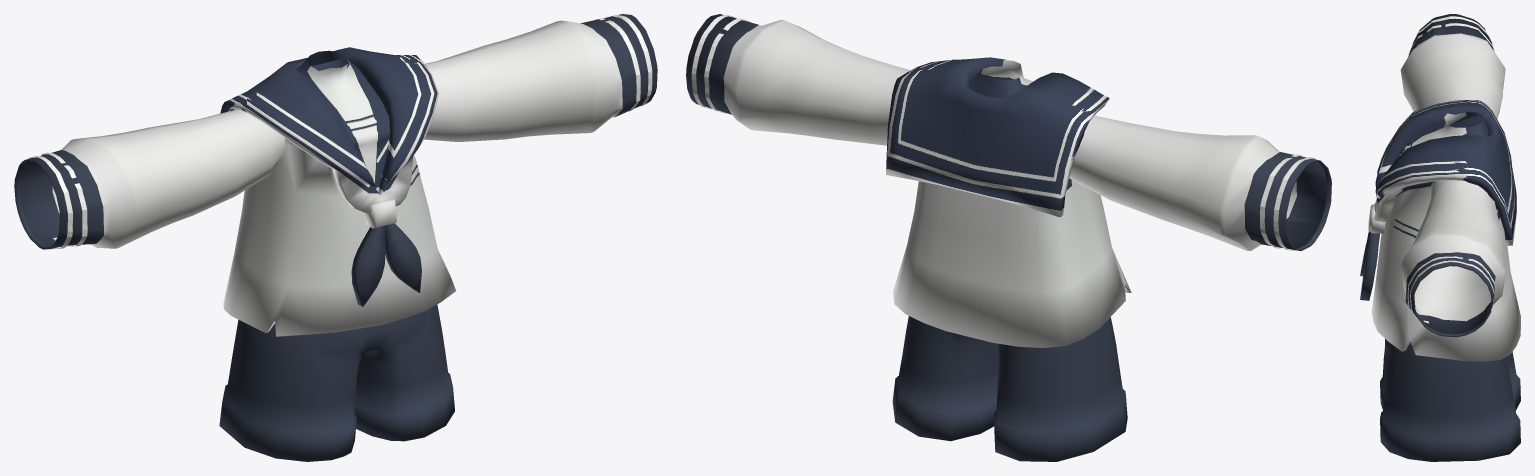
Rendered from sailor-school-outfit.glb.
The picture shows the model from 3 angles, left to right: view 1: azimuth 30°, elevation 25°; view 2: azimuth 150°, elevation 25°; view 3: azimuth 270°, elevation 25°; orthographic projection. The views are drawn at different scales.
Visible parts, largest first — view 1: Sailor_top, Sailor_pants; view 2: Sailor_top, Sailor_pants; view 3: Sailor_top, Sailor_pants.
Part boxes in pixels (x1,y1,x2,y2): Sailor_top: (14, 14, 657, 336); Sailor_pants: (219, 304, 454, 461); Sailor_top: (686, 14, 1331, 348); Sailor_pants: (892, 316, 1127, 461); Sailor_top: (1360, 14, 1520, 361); Sailor_pants: (1380, 339, 1520, 461).
Bounding box in the file's own units: 2.82 × 1.61 × 0.7638.
5 materials, 2 textured.
